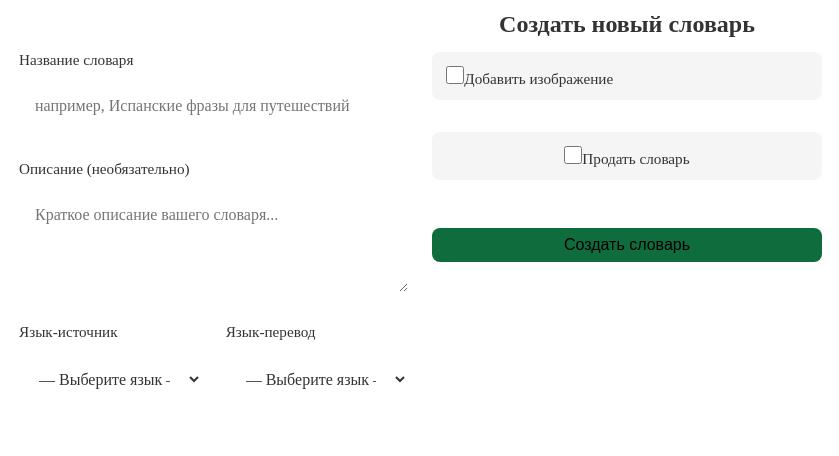
AddDict Component › валидирует минимальную длину названия
The image size is (839, 456).
Type "ab" into the field labelled "Название словаря" at (214, 106), box [19,83,408,129]
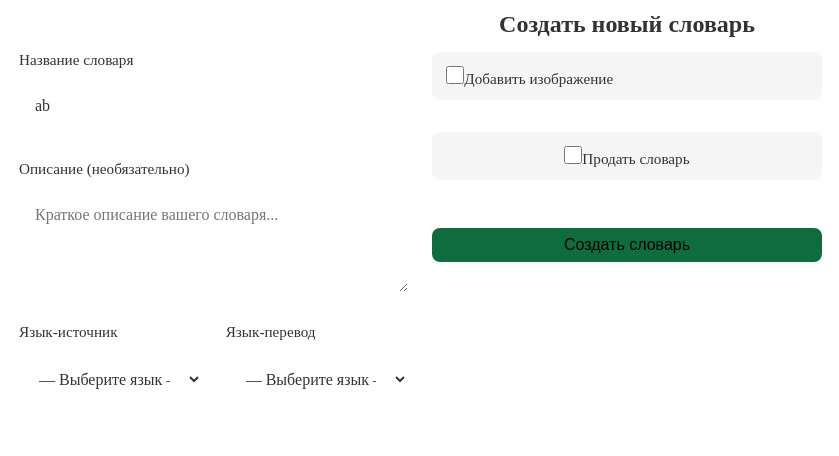
Leave the field labelled "Название словаря", box [19,83,408,129]
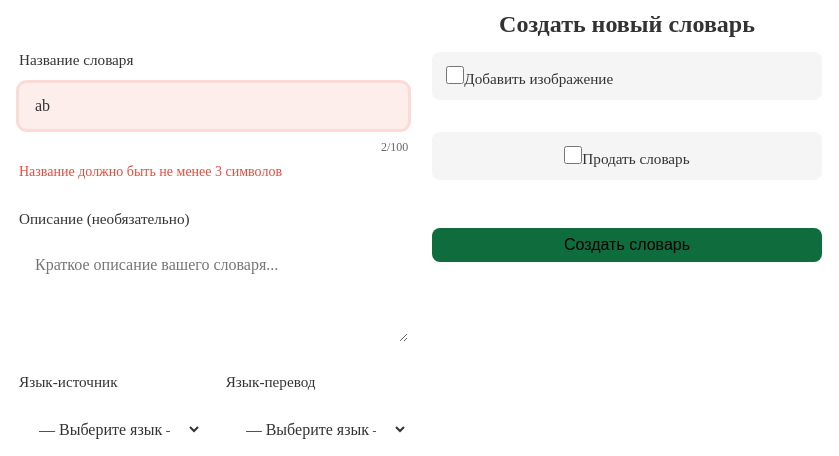
Expected: the text "Название должно быть не менее 3 символов" is shown, [19,164,282,179]
